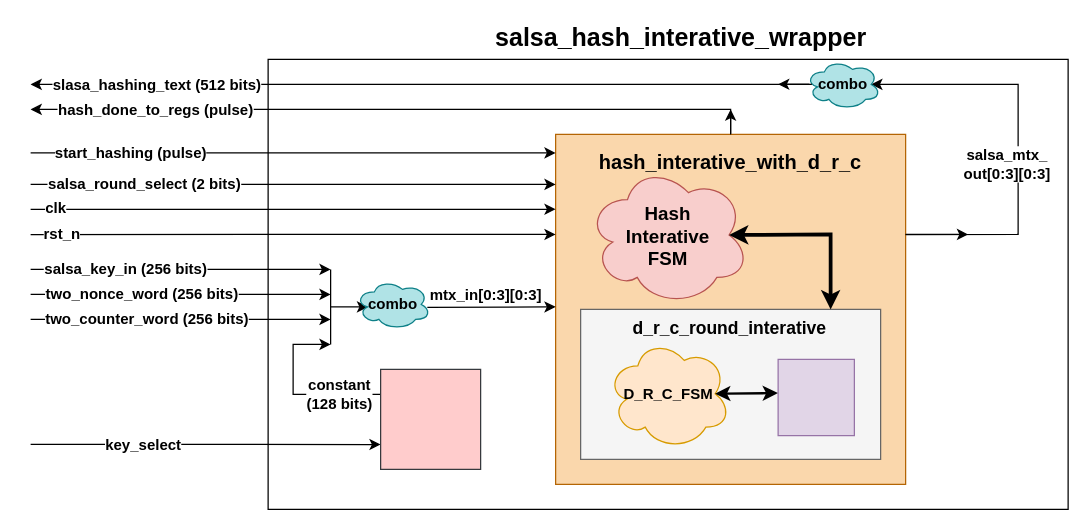
Some shapes in this 1090 by 531 pixel diagram are drawn without their labels. The shapes that lost their labels are listed below. From the top down, each one's centre as x and y in pixels, then its label:
At pixel 815 397: "Quarter Round".
At pixel 430 418: "Constant Select".
